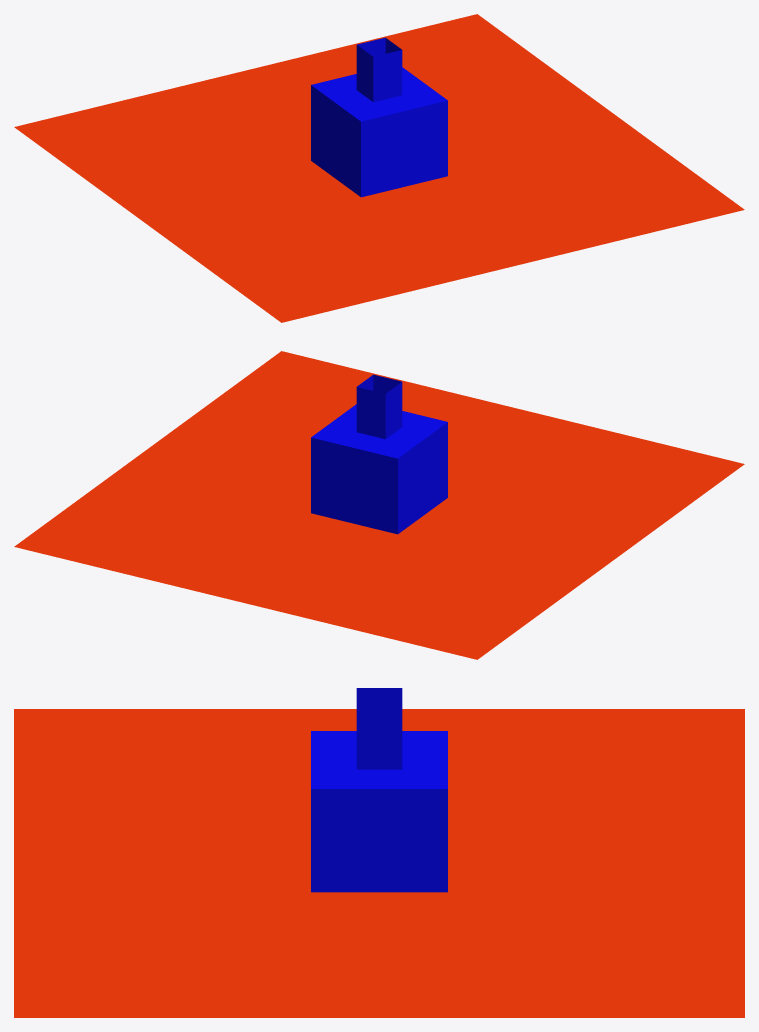
File: None_S_S_E_E_S_S_E_E_BigStrut.fbx
3 views of the same model, one above another, from view 1: azimuth 30°, elevation 25°; view 2: azimuth 150°, elevation 25°; view 3: azimuth 270°, elevation 25° (orthographic). The views are drawn at different scales.
Visible parts, largest first — view 1: None_S_S_E_E_S_S_E_E_BigStrut; view 2: None_S_S_E_E_S_S_E_E_BigStrut; view 3: None_S_S_E_E_S_S_E_E_BigStrut.
Boxes of the visible parts, left/top/right/bottom form: None_S_S_E_E_S_S_E_E_BigStrut: left=14, top=14, right=744, bottom=322; None_S_S_E_E_S_S_E_E_BigStrut: left=14, top=351, right=744, bottom=659; None_S_S_E_E_S_S_E_E_BigStrut: left=14, top=688, right=744, bottom=1017.
Size of the model in its own units: 100 by 28.12 by 100.
